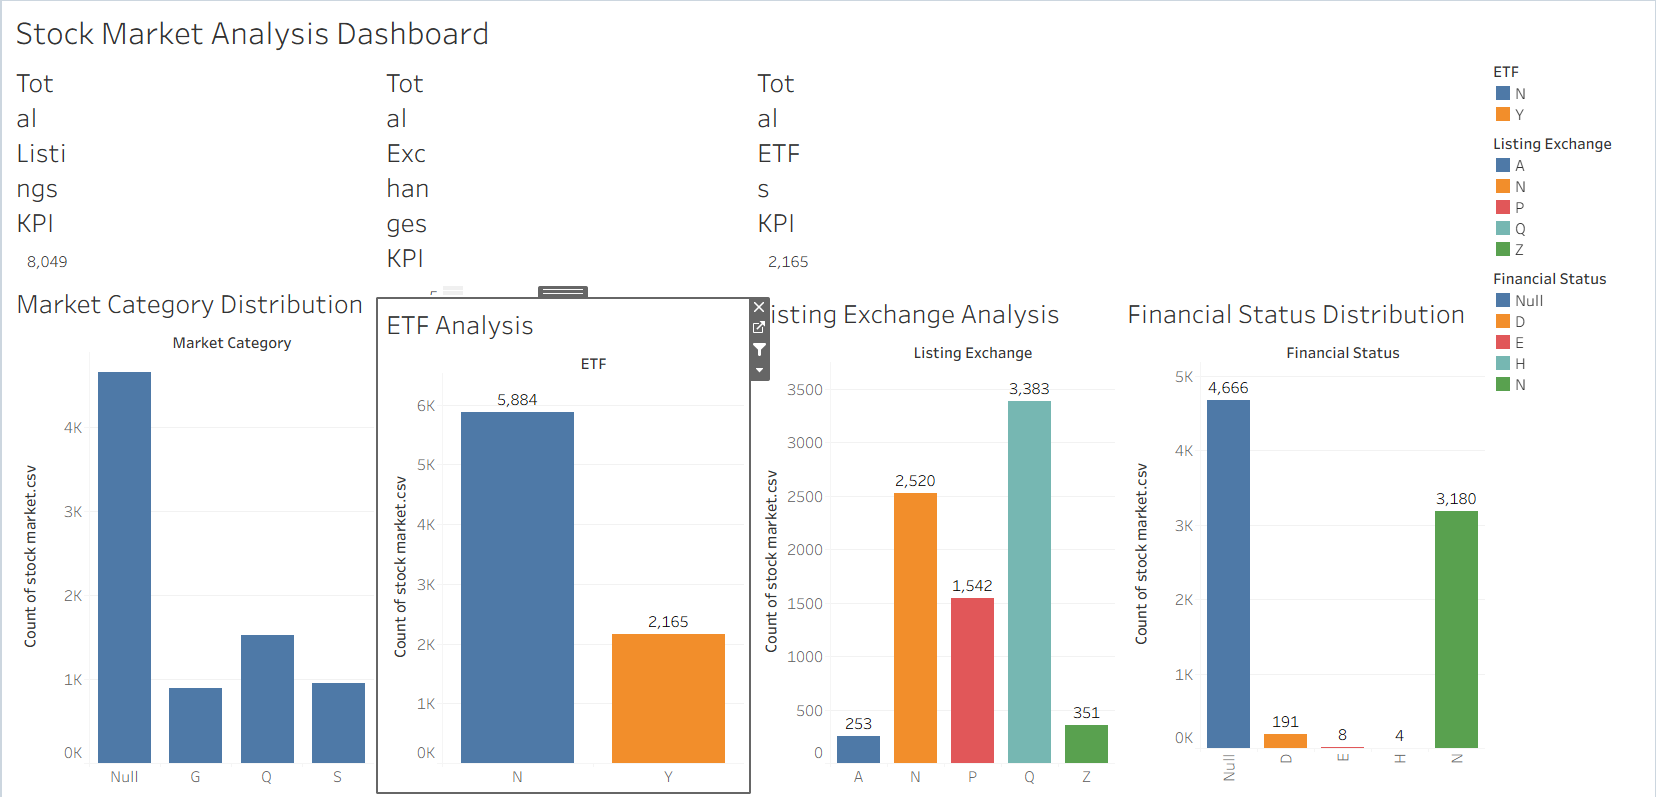

What the dashboard file says about the page in this screenshot:
{"tool":"tableau","page":{"name":"Stock Market Analysis Dashboard","canvas":[1000,1000],"units":"permille","ordinal":0},"visuals":[{"type":"title","box":[4.8,10,990.3,62.4]},{"type":"worksheet","title":"Total Listings KPI","mark":"Automatic","box":[4.8,72.4,223.4,275.9]},{"type":"worksheet","title":"Total Exchanges KPI","mark":"Automatic","box":[228.3,72.4,223.5,302.7]},{"type":"worksheet","title":"Total ETFs KPI","mark":"Automatic","box":[451.7,72.4,446.9,288.7]},{"type":"legend","title":"ETF Analysis","param":"[federated.1jsmnhh1jam59219l084x1cwh9es].[none:ETF:nk]","box":[898.6,72.4,96.6,89.9]},{"type":"legend","title":"Listing Exchange Analysis","param":"[federated.1jsmnhh1jam59219l084x1cwh9es].[none:Listing Exchange:nk]","box":[898.6,162.3,96.6,168.5]},{"type":"legend","title":"Financial Status Distribution","param":"[federated.1jsmnhh1jam59219l084x1cwh9es].[none:Financial Status:nk]","box":[898.6,330.8,96.6,168.5]},{"type":"worksheet","title":"Market Category Distribution","mark":"Automatic","rows":["stock market.csv_E7C1F420D2E44BFDAA972934CCA6B6FB"],"cols":["Market Category"],"box":[4.8,348.3,223.4,641.7]},{"type":"worksheet","title":"Listing Exchange Analysis","mark":"Automatic","rows":["stock market.csv_E7C1F420D2E44BFDAA972934CCA6B6FB"],"cols":["Listing Exchange"],"box":[451.7,361.1,223.5,628.9]},{"type":"worksheet","title":"Financial Status Distribution","mark":"Automatic","rows":["stock market.csv_E7C1F420D2E44BFDAA972934CCA6B6FB"],"cols":["Financial Status"],"box":[675.2,361.1,223.4,628.9]},{"type":"worksheet","title":"ETF Analysis","mark":"Automatic","rows":["stock market.csv_E7C1F420D2E44BFDAA972934CCA6B6FB"],"cols":["ETF"],"box":[228.3,375.2,223.5,614.9]}]}

Visuals, with their boxes on the dashboard's canvas, which has no fixed pixel size, in thousandths of its width and height (x1, y1, x2, y2). These are canvas units, not pixel positions in the 1656x797 screenshot, which may show the page scaled, cropped or inside an application window:
title: box(5, 10, 995, 72)
"Total Listings KPI" worksheet: box(5, 72, 228, 348)
"Total Exchanges KPI" worksheet: box(228, 72, 452, 375)
"Total ETFs KPI" worksheet: box(452, 72, 899, 361)
"ETF Analysis" legend: box(899, 72, 995, 162)
"Listing Exchange Analysis" legend: box(899, 162, 995, 331)
"Financial Status Distribution" legend: box(899, 331, 995, 499)
"Market Category Distribution" worksheet: box(5, 348, 228, 990)
"Listing Exchange Analysis" worksheet: box(452, 361, 675, 990)
"Financial Status Distribution" worksheet: box(675, 361, 899, 990)
"ETF Analysis" worksheet: box(228, 375, 452, 990)
